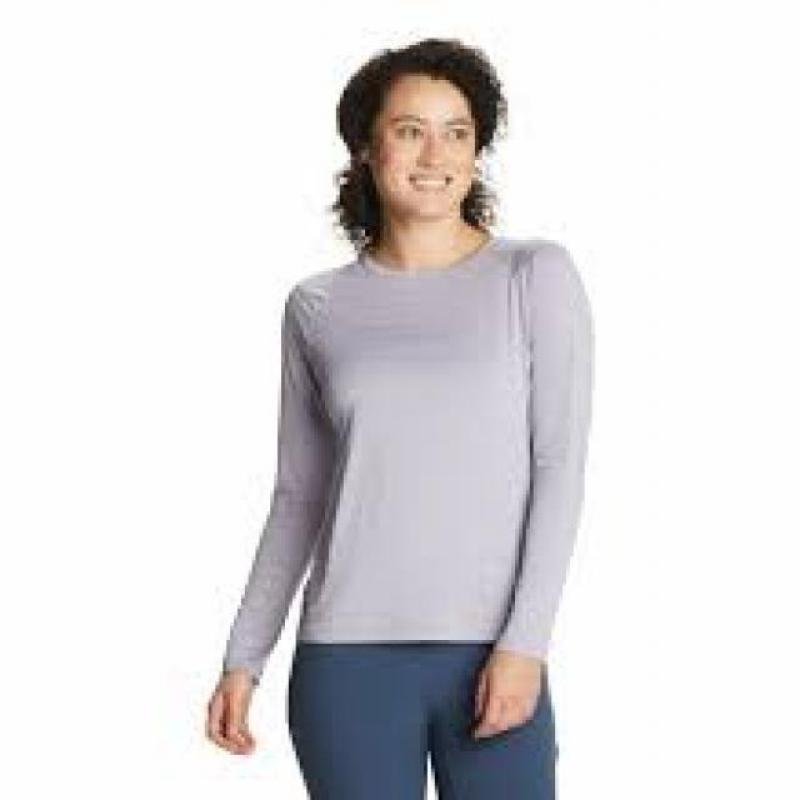long sleeve shirt: (220, 237, 597, 679)
trousers: (283, 640, 559, 800)
